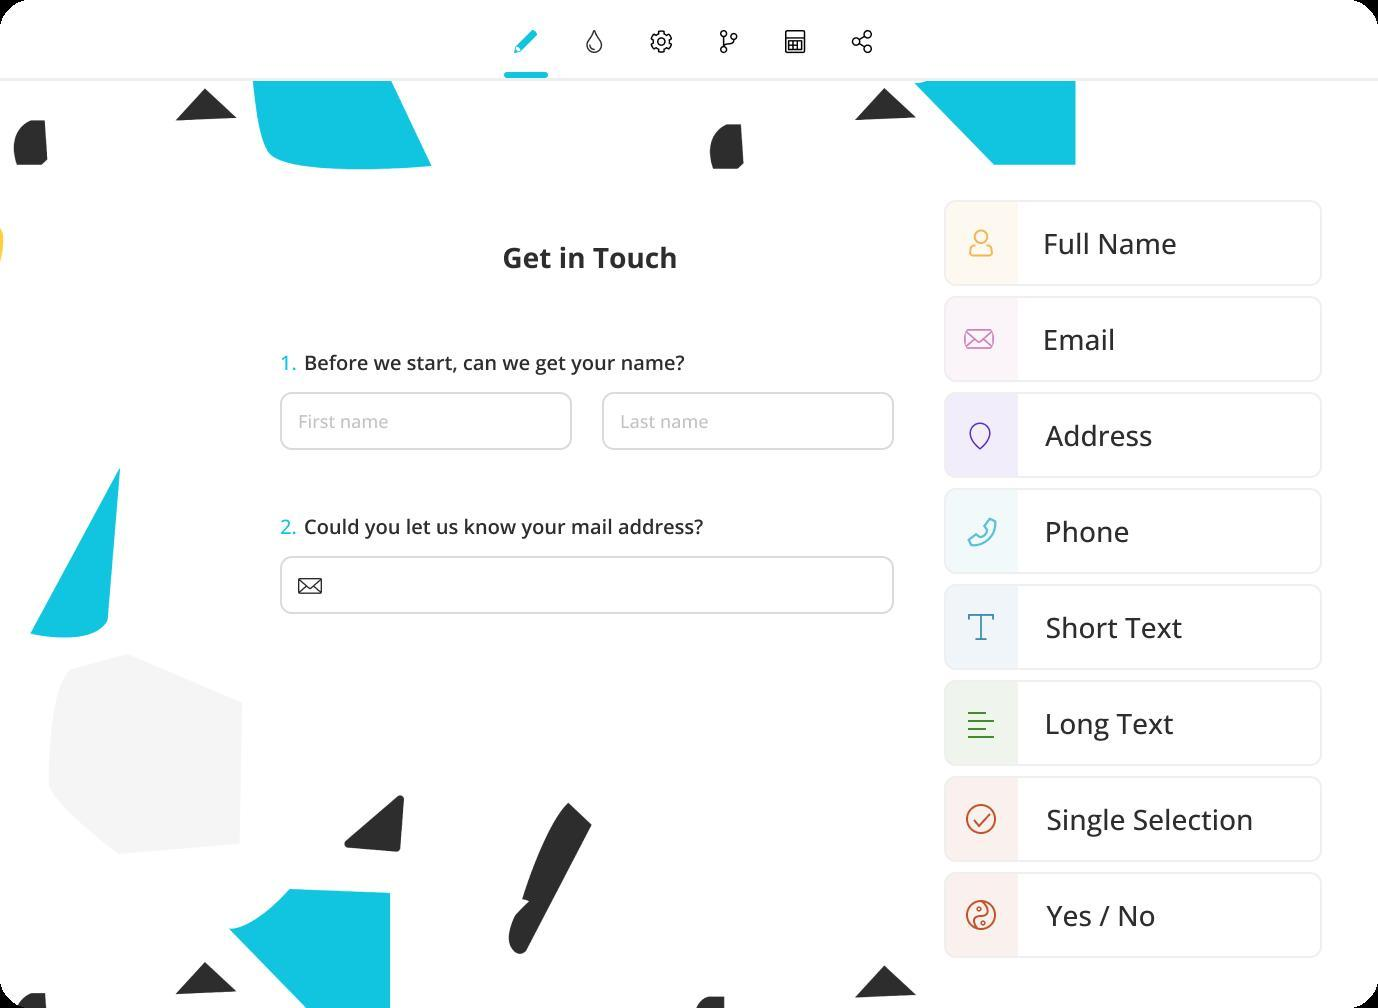checkbox: (964, 799, 1000, 838)
icon: (964, 706, 1000, 748), (965, 607, 999, 647), (960, 323, 1000, 356), (966, 897, 1000, 933), (968, 516, 999, 550), (782, 26, 814, 58), (511, 24, 542, 57), (968, 228, 998, 262), (851, 28, 881, 58), (649, 28, 676, 58), (715, 24, 741, 54), (969, 419, 993, 450), (585, 27, 606, 57)
input: (281, 553, 895, 616), (606, 392, 894, 452), (284, 394, 572, 453)
label: (298, 345, 694, 376), (306, 515, 707, 539)
